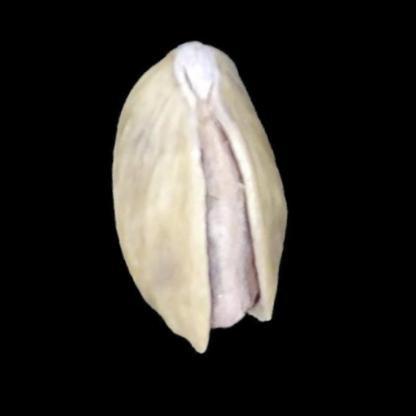pistachio: (112, 38, 286, 362)
